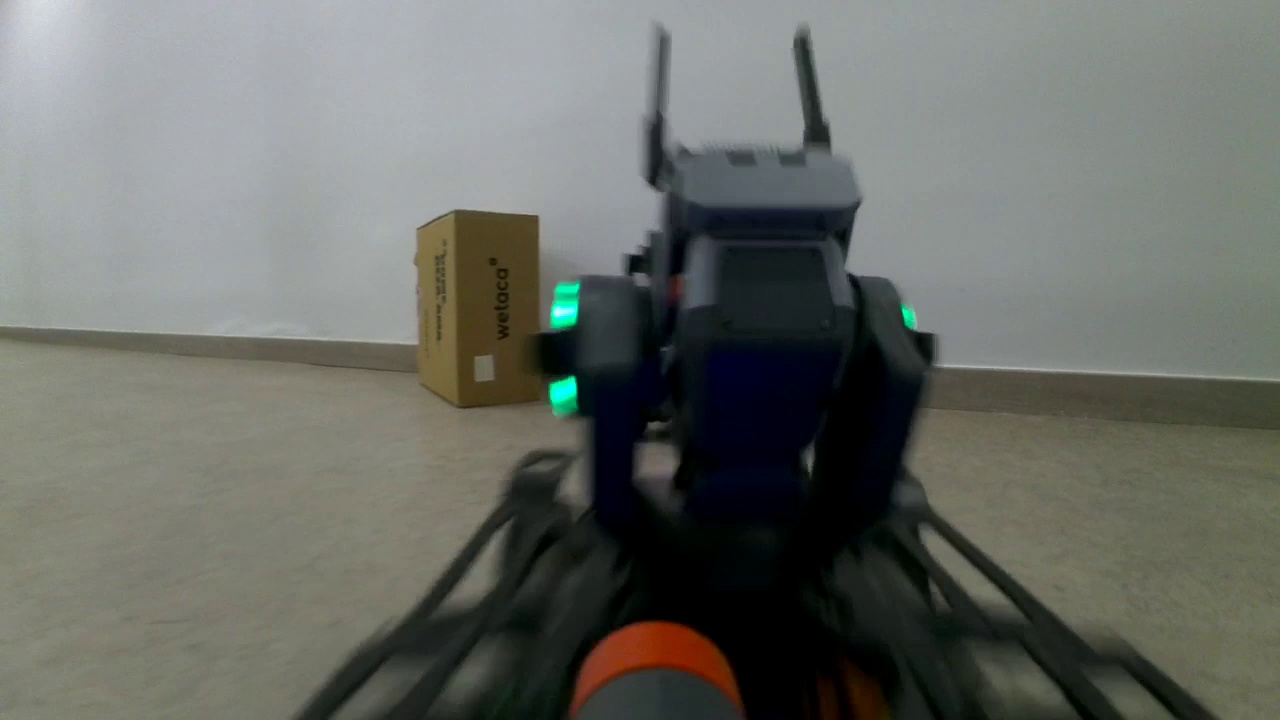robot: (543, 143, 930, 704)
